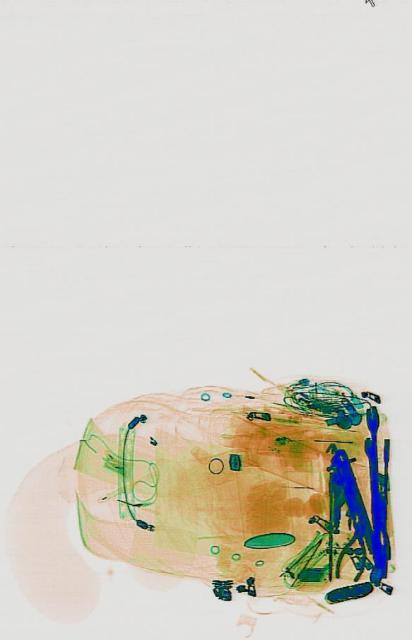Pliers: (330, 506, 375, 590)
